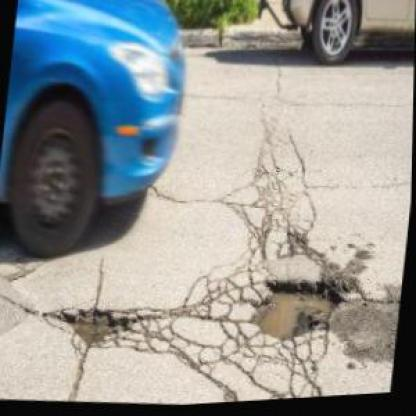pothole: (251, 262, 347, 348), (63, 301, 138, 354)
